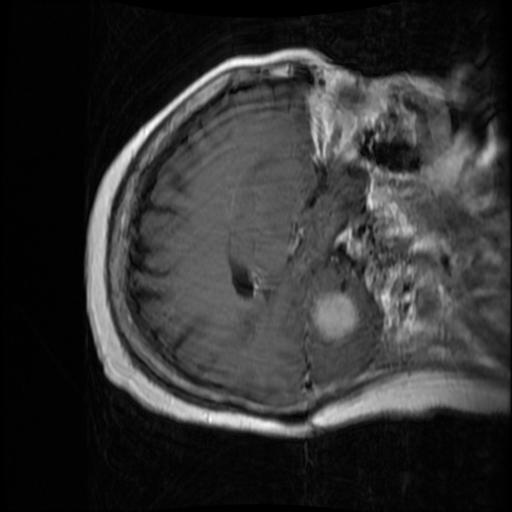meningioma: (309, 293, 357, 339)
